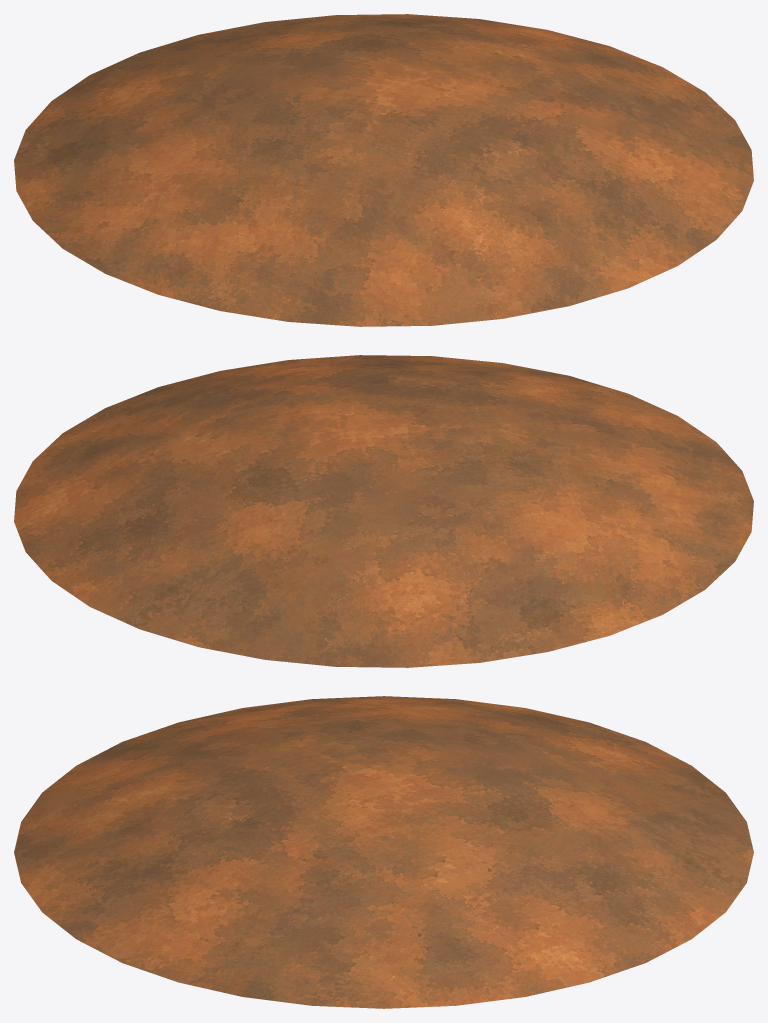
File: Exotic_Ground_01.fbx
3 views of the same model, one above another, from view 1: azimuth 30°, elevation 25°; view 2: azimuth 150°, elevation 25°; view 3: azimuth 270°, elevation 25° (orthographic).
Parts seen in each view (by area): view 1: Exotic_Ground_01; view 2: Exotic_Ground_01; view 3: Exotic_Ground_01.
Boxes of the visible parts, left/top/right/bottom form: Exotic_Ground_01: left=14, top=14, right=753, bottom=326; Exotic_Ground_01: left=14, top=355, right=753, bottom=667; Exotic_Ground_01: left=14, top=696, right=753, bottom=1008.
Bounding box in the file's own units: 1561 × 1561 × 181.
